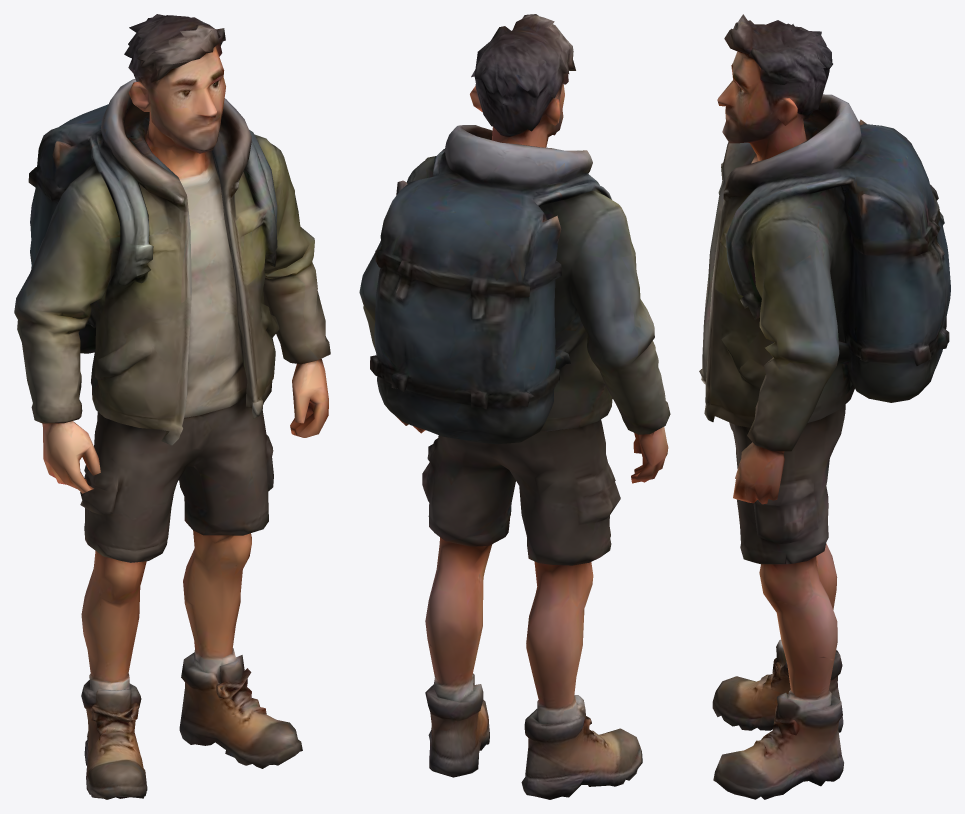
File: wanderer1.glb
3 views of the same model, side by side, from view 1: azimuth 30°, elevation 25°; view 2: azimuth 150°, elevation 25°; view 3: azimuth 270°, elevation 25° (orthographic). The views are drawn at different scales.
Visible parts, largest first — view 1: tripo_node_be4e5434-69b7-4878-a612-729cb29af876; view 2: tripo_node_be4e5434-69b7-4878-a612-729cb29af876; view 3: tripo_node_be4e5434-69b7-4878-a612-729cb29af876.
Boxes of the visible parts, bbox=[...] form: tripo_node_be4e5434-69b7-4878-a612-729cb29af876: bbox=[14, 14, 330, 799]; tripo_node_be4e5434-69b7-4878-a612-729cb29af876: bbox=[359, 14, 670, 799]; tripo_node_be4e5434-69b7-4878-a612-729cb29af876: bbox=[699, 14, 950, 799].
Bounding box in the file's own units: 0.404 × 1 × 0.3102.
1 material, 1 textured.
